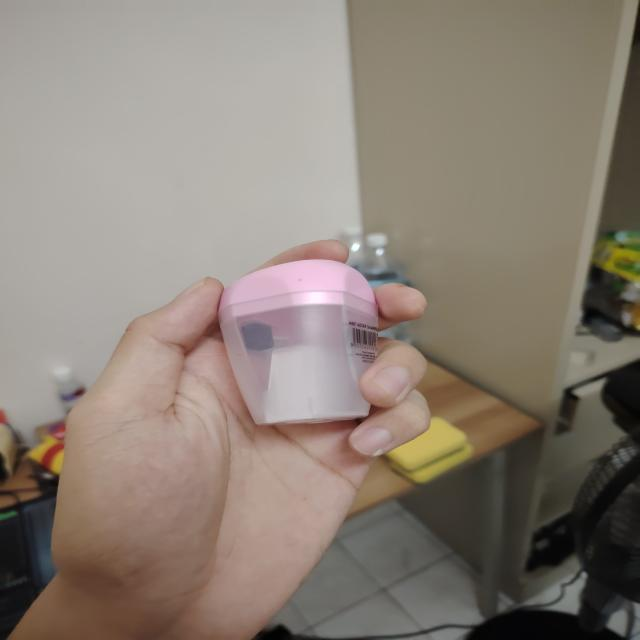sharpener: (218, 259, 378, 424)
